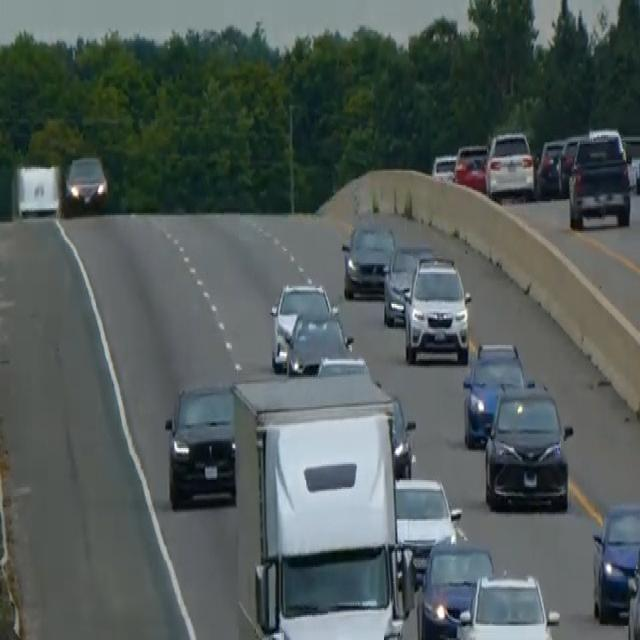car: (316, 352, 416, 478), (483, 379, 573, 512), (163, 381, 236, 508), (418, 535, 495, 638), (269, 279, 353, 373), (393, 475, 463, 583), (461, 338, 525, 448), (455, 571, 560, 638), (567, 126, 632, 230), (590, 498, 639, 622), (340, 217, 395, 299), (382, 242, 433, 327), (484, 128, 535, 201), (64, 153, 108, 211), (557, 132, 587, 194), (453, 142, 488, 192), (536, 137, 565, 195), (627, 532, 639, 638), (431, 151, 456, 183)
jeep: (401, 252, 472, 364)
lorry: (230, 372, 418, 638), (13, 160, 62, 220)
